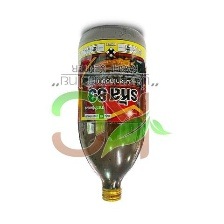insecticide: (74, 23, 153, 201)
